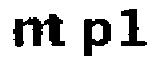1: (116, 7, 148, 52)
n: (10, 17, 44, 49)
p: (76, 15, 115, 60)
t: (44, 12, 67, 48)
